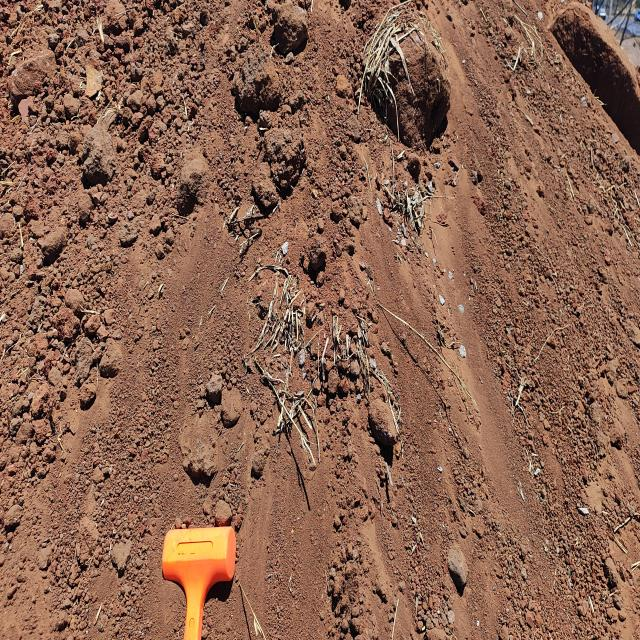Orange_hammer: (161, 524, 236, 639)
